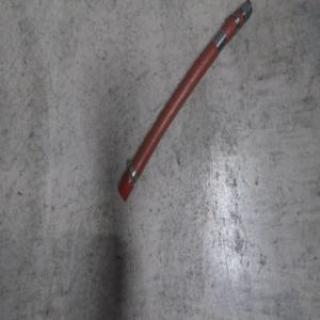Hosetrack_idkeyframe: (115, 2, 253, 203)
